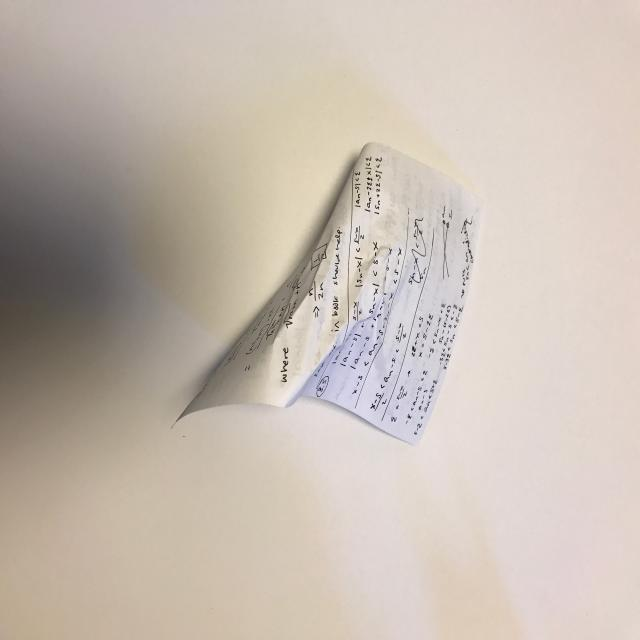paper: (171, 140, 484, 447)
